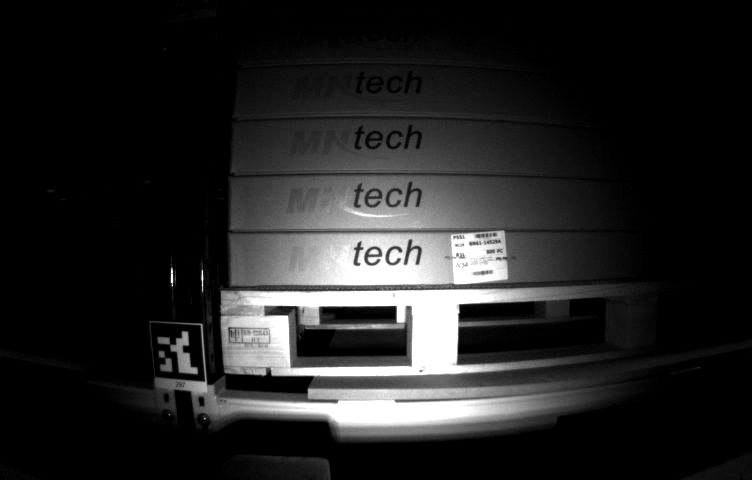True Barcode: (447, 228, 510, 286)
